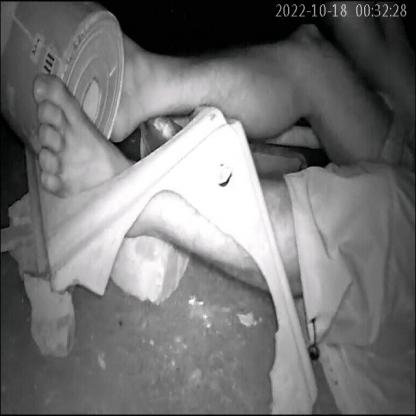leg: (118, 9, 372, 166), (27, 64, 118, 218)
